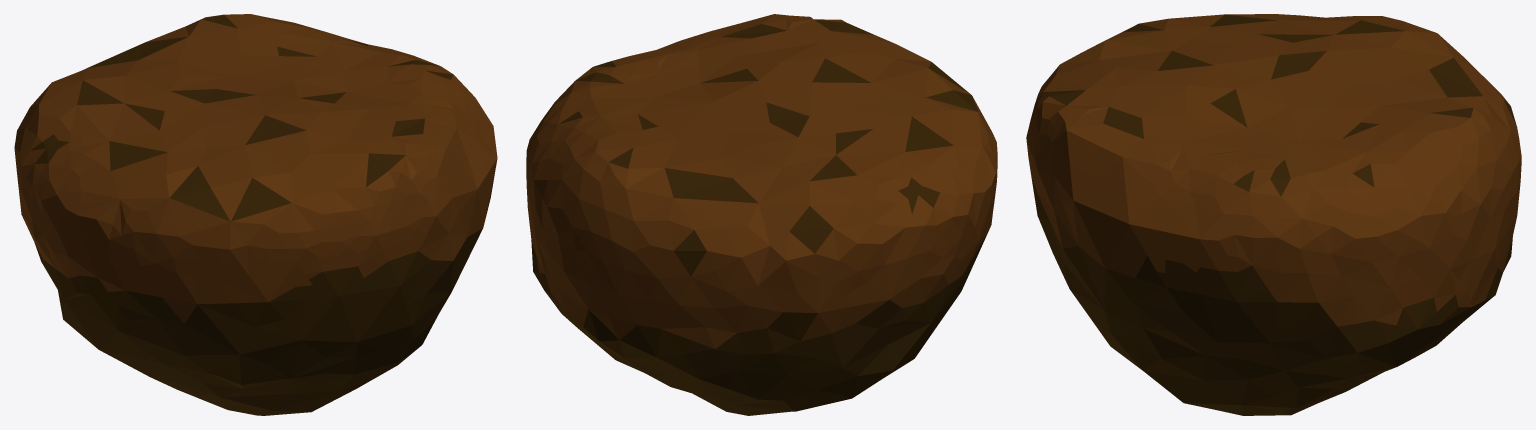
The model's file is Stage2.fbx.
3 views of the same model, side by side, from view 1: azimuth 30°, elevation 25°; view 2: azimuth 150°, elevation 25°; view 3: azimuth 270°, elevation 25° (orthographic). The views are drawn at different scales.
Visible parts, largest first — view 1: Icosphere; view 2: Icosphere; view 3: Icosphere.
Boxes of the visible parts, x1,y1,x2,y2 form: Icosphere: [14, 14, 497, 415]; Icosphere: [526, 14, 997, 415]; Icosphere: [1026, 14, 1521, 415].
Size of the model in its own units: 12329 by 9094 by 12171.
